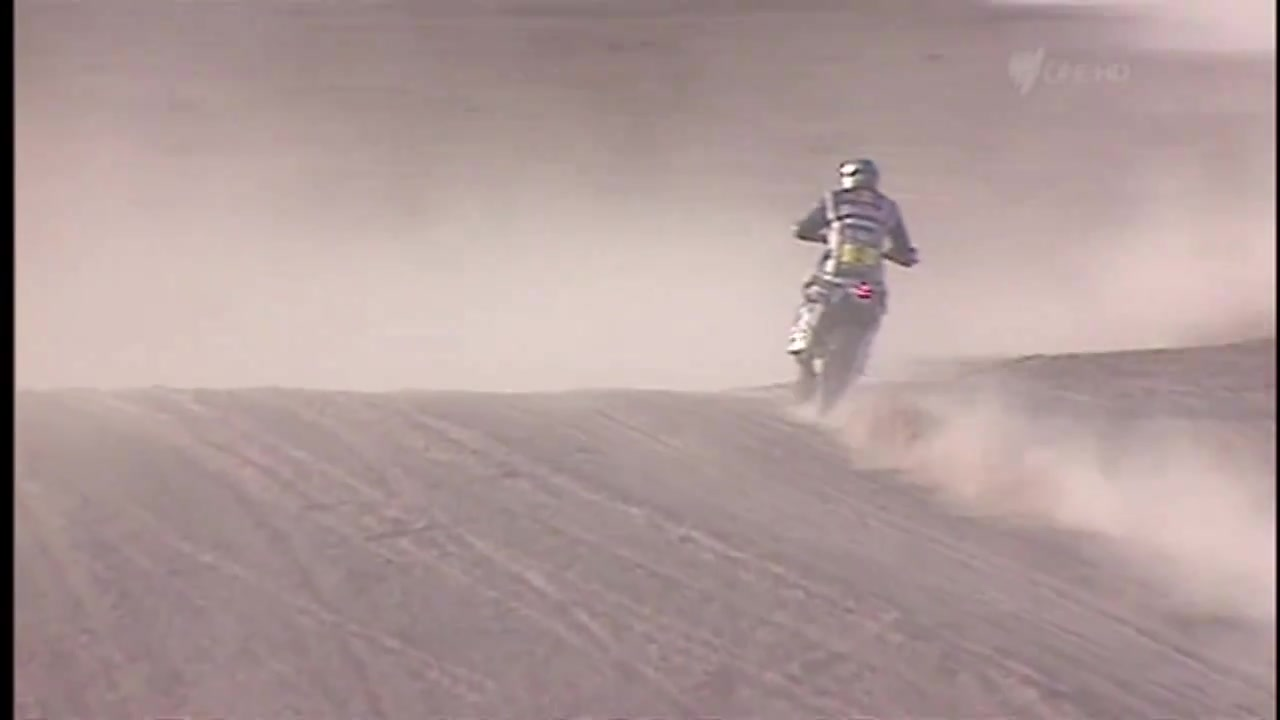motorbike: (783, 222, 924, 414)
